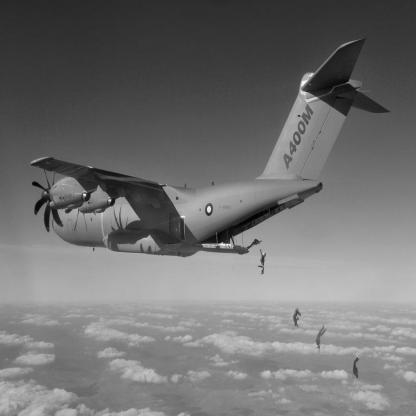A400M: (31, 39, 392, 258)
